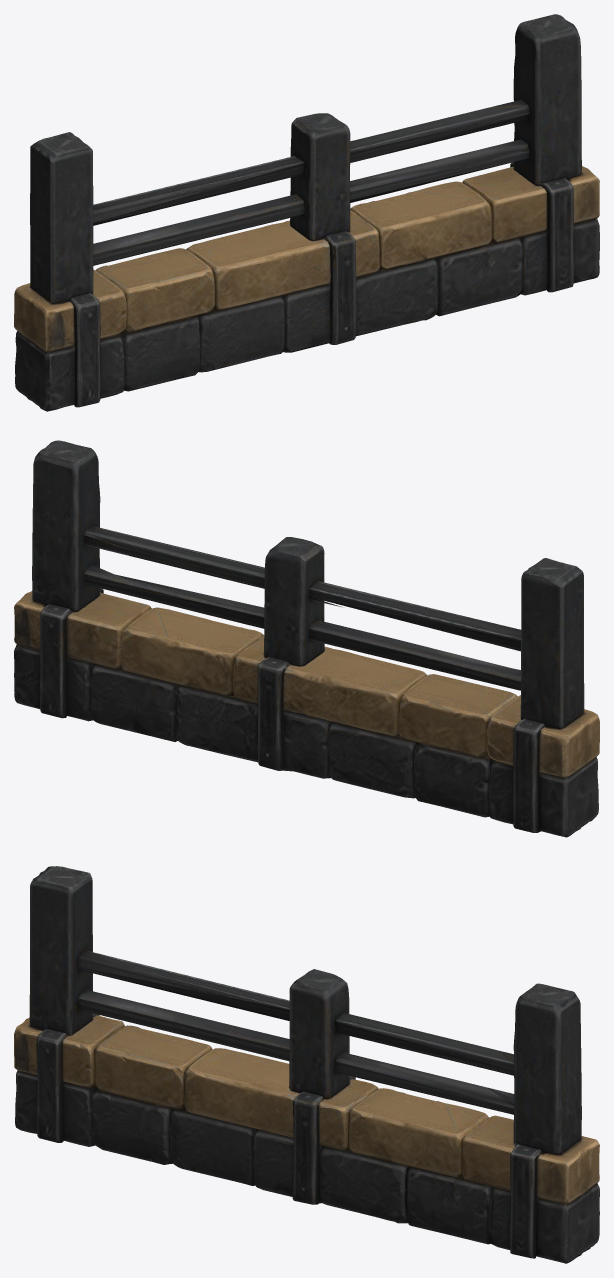
File: railing-wall.glb
The picture shows the model from 3 angles, top to bottom: view 1: azimuth 30°, elevation 25°; view 2: azimuth 150°, elevation 25°; view 3: azimuth 330°, elevation 25°; orthographic projection.
Size of the model in its own units: 1.9 by 0.8239 by 0.2548.
Materials: 1 (1 with a texture image).
